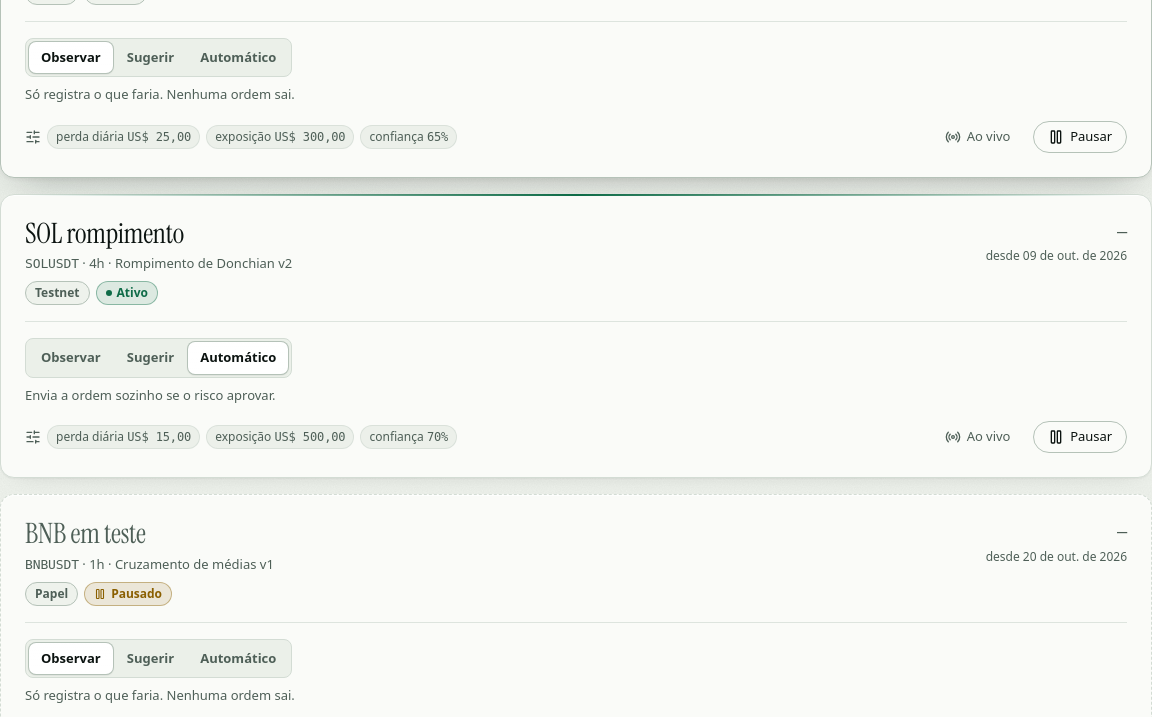
Test case: Robôs: pausar e desfazer › sair do automático não oferece Desfazer (o automático só volta pelo diálogo)
The image size is (1152, 717).
(page scrolled)
Click the radio button labelled "Observar" below "SOL rompimento": {"x": 71, "y": 357} x1=41 y1=348 x2=101 y2=366
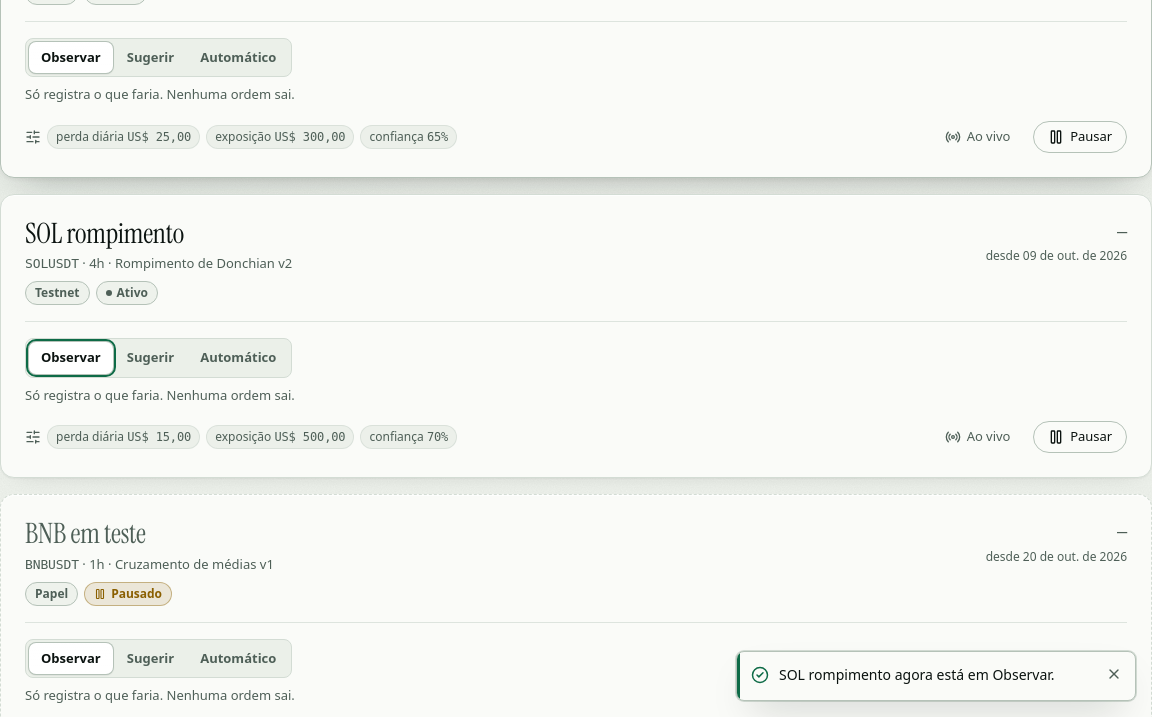
Check: the text "SOL rompimento agora está em Observar." is shown, box x1=779 y1=664 x2=1089 y2=685
